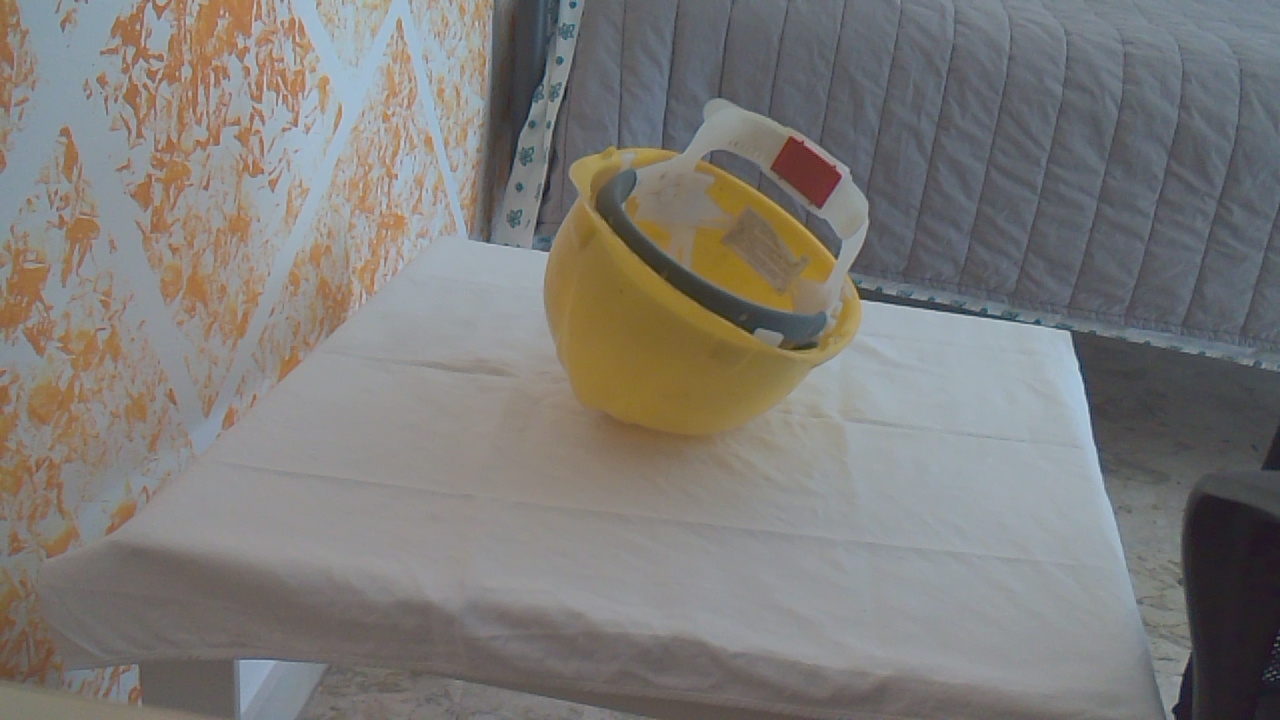Helmet: (543, 97, 884, 440)
